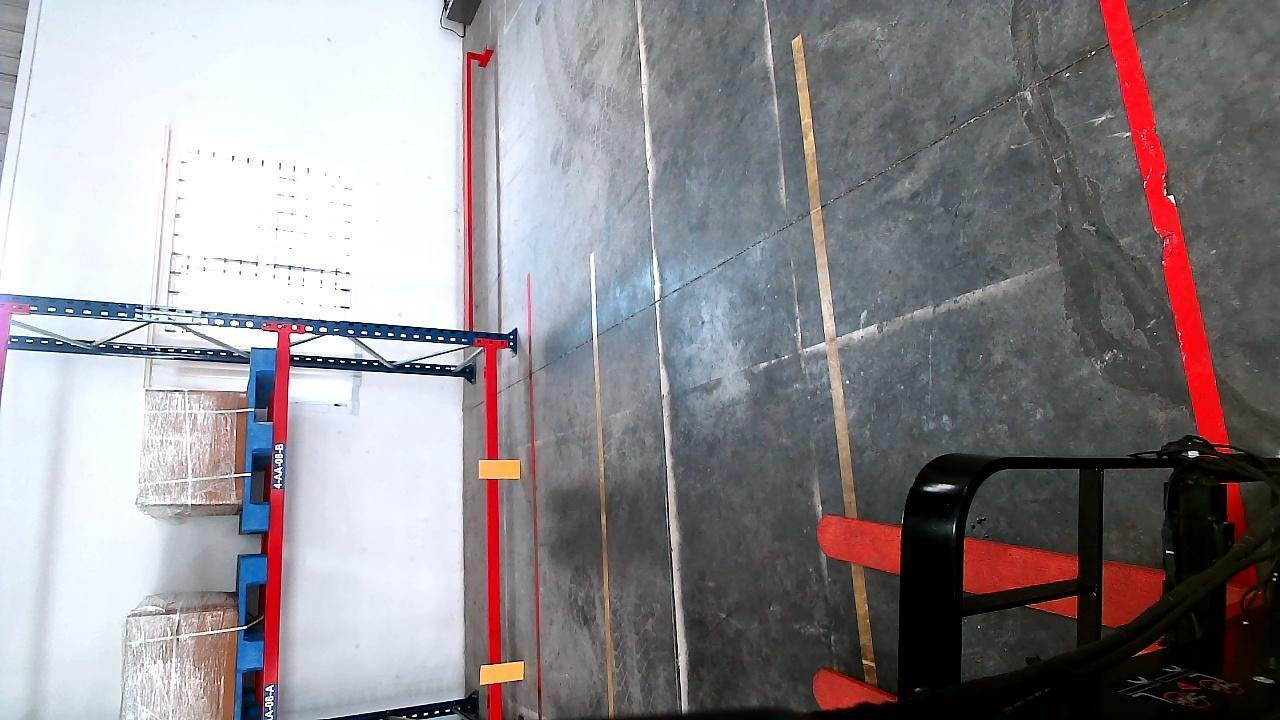h_rack: (1096, 0, 1244, 461), (263, 337, 292, 709), (481, 359, 507, 719)
orange_strip: (481, 660, 526, 685), (481, 457, 524, 480)
red_line: (525, 269, 544, 717)
small_pallet: (245, 344, 278, 536), (235, 563, 268, 709)
yellow_line: (791, 35, 878, 684), (589, 252, 619, 719)
